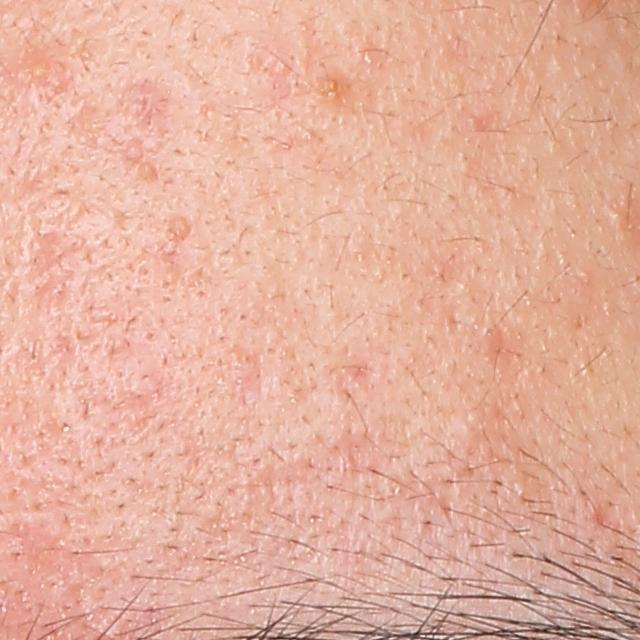comedo: (136, 161, 156, 179), (608, 208, 625, 227), (361, 47, 377, 66)
